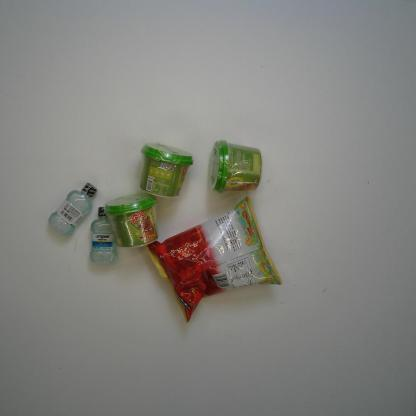Instant Drink: (138, 142, 194, 199), (104, 192, 159, 249), (208, 139, 262, 193)
Personal Hygiene: (47, 182, 98, 238), (89, 206, 118, 264)
Puffed Food: (146, 195, 283, 324)
